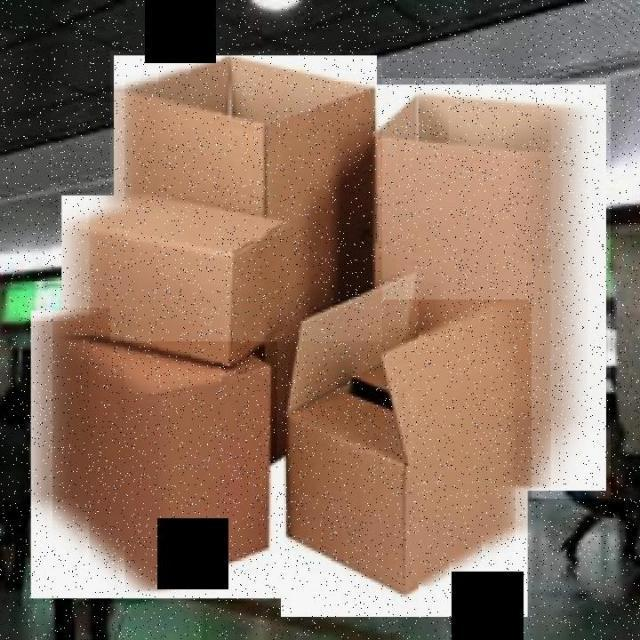box: (364, 78, 610, 499), (278, 300, 532, 622), (110, 51, 382, 342), (27, 307, 289, 604), (58, 192, 300, 390)
